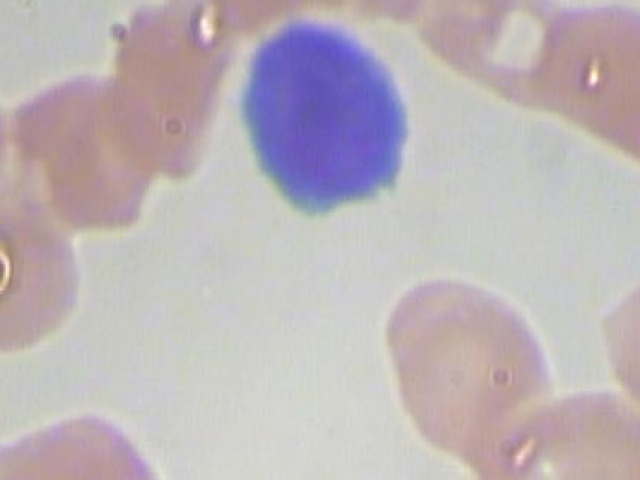RBC: (366, 269, 567, 471), (468, 378, 640, 480), (523, 0, 640, 137), (0, 401, 190, 480), (0, 199, 91, 358), (586, 14, 640, 171), (595, 267, 640, 433)
WBC: (218, 14, 425, 242)
